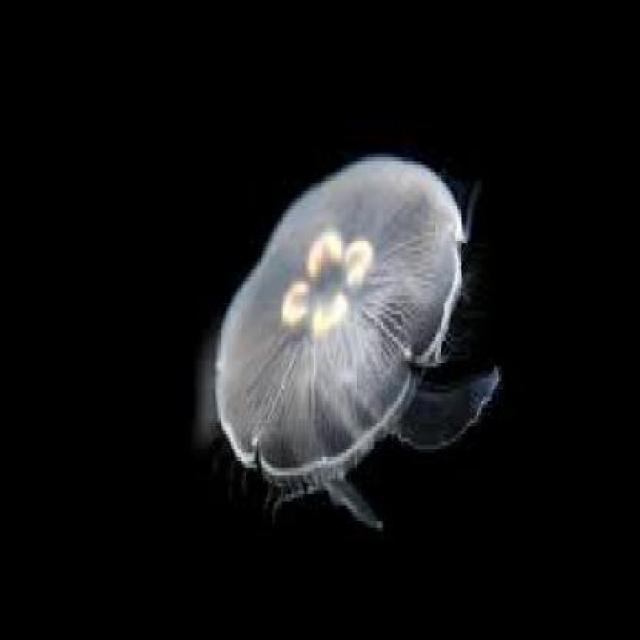Jellyfish: (207, 142, 498, 524)
